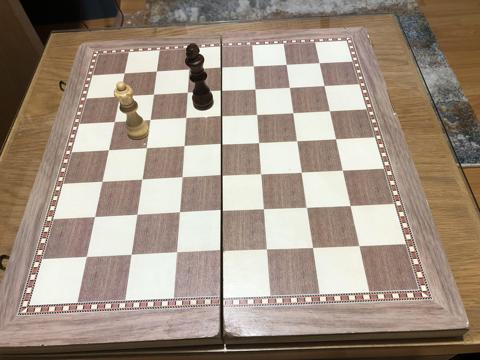xcorner: (306, 242, 319, 255), (280, 59, 293, 71), (117, 68, 130, 80), (287, 107, 299, 120), (215, 139, 227, 152), (258, 204, 270, 217), (172, 208, 185, 220), (88, 212, 101, 224), (80, 252, 93, 264), (314, 57, 326, 69), (248, 61, 260, 73), (215, 63, 227, 75), (182, 64, 194, 76), (150, 66, 162, 78), (319, 80, 331, 92), (284, 82, 296, 94), (249, 84, 261, 96), (215, 86, 227, 98), (181, 88, 193, 100), (147, 89, 159, 101), (113, 91, 125, 103), (324, 106, 336, 118), (251, 109, 263, 121), (215, 111, 227, 123), (179, 113, 191, 125), (143, 115, 155, 127), (108, 117, 120, 129), (330, 134, 342, 146), (291, 136, 303, 148), (253, 138, 265, 150), (177, 141, 189, 153), (139, 143, 151, 155), (102, 145, 114, 157), (337, 165, 349, 177), (296, 167, 308, 179), (255, 169, 267, 181), (215, 171, 227, 183), (175, 173, 187, 185), (135, 175, 147, 187), (96, 177, 108, 189), (344, 201, 356, 213), (301, 203, 313, 215), (215, 206, 227, 218), (130, 210, 142, 222), (353, 241, 365, 253), (261, 244, 273, 256), (215, 246, 227, 258), (170, 248, 182, 260), (125, 250, 137, 262)
